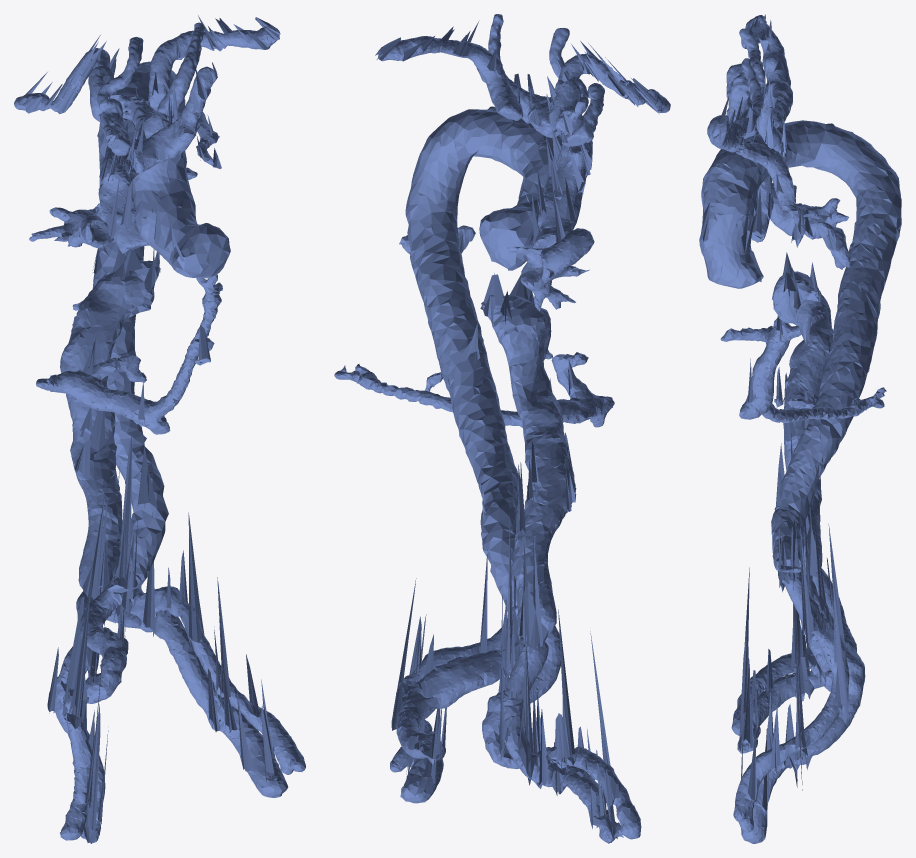
The model's file is vasos.glb.
The picture shows the model from 3 angles, left to right: view 1: azimuth 30°, elevation 25°; view 2: azimuth 150°, elevation 25°; view 3: azimuth 270°, elevation 25°; orthographic projection. The views are drawn at different scales.
Visible parts, largest first — view 1: aorta, inferior_vena_cava, iliac_artery_right, iliac_vena_left, portal_vein_and_splenic_vein, iliac_artery_left, iliac_vena_right, subclavian_artery_left, brachiocephalic_vein_left, superior_vena_cava, subclavian_artery_right, pulmonary_vein (+4 smaller); view 2: aorta, inferior_vena_cava, iliac_vena_left, iliac_artery_right, iliac_vena_right, portal_vein_and_splenic_vein, superior_vena_cava, subclavian_artery_right, pulmonary_vein, subclavian_artery_left, iliac_artery_left, brachiocephalic_vein_right (+3 smaller); view 3: aorta, inferior_vena_cava, iliac_artery_left, iliac_vena_left, portal_vein_and_splenic_vein, pulmonary_vein, iliac_vena_right, iliac_artery_right, subclavian_artery_left, subclavian_artery_right, brachiocephalic_vein_left, superior_vena_cava (+3 smaller).
Boxes of the visible parts, <box> form: aorta: <box>92,61,230,592</box>; inferior_vena_cava: <box>60,249,160,602</box>; iliac_artery_right: <box>60,433,137,840</box>; iliac_vena_left: <box>104,463,288,797</box>; portal_vein_and_splenic_vein: <box>36,274,222,434</box>; iliac_artery_left: <box>130,512,305,774</box>; iliac_vena_right: <box>47,590,108,843</box>; subclavian_artery_left: <box>148,15,280,110</box>; brachiocephalic_vein_left: <box>128,62,217,173</box>; superior_vena_cava: <box>98,123,152,253</box>; subclavian_artery_right: <box>14,35,127,122</box>; pulmonary_vein: <box>29,110,221,248</box>; aorta: <box>405,109,562,619</box>; inferior_vena_cava: <box>480,273,576,660</box>; iliac_vena_left: <box>396,512,524,803</box>; iliac_artery_right: <box>482,464,641,839</box>; iliac_vena_right: <box>500,594,623,843</box>; portal_vein_and_splenic_vein: <box>334,352,614,427</box>; superior_vena_cava: <box>531,129,592,248</box>; subclavian_artery_right: <box>546,41,670,135</box>; pulmonary_vein: <box>399,106,594,311</box>; subclavian_artery_left: <box>375,20,522,120</box>; iliac_artery_left: <box>390,549,522,772</box>; brachiocephalic_vein_right: <box>561,83,604,146</box>; aorta: <box>699,120,901,572</box>; inferior_vena_cava: <box>772,252,833,580</box>; iliac_artery_left: <box>733,525,849,832</box>; iliac_vena_left: <box>741,465,865,843</box>; portal_vein_and_splenic_vein: <box>720,316,886,422</box>; pulmonary_vein: <box>735,134,851,269</box>; iliac_vena_right: <box>737,524,856,753</box>; iliac_artery_right: <box>731,432,832,735</box>; subclavian_artery_left: <box>756,67,792,157</box>; subclavian_artery_right: <box>741,14,790,99</box>; brachiocephalic_vein_left: <box>707,96,758,152</box>; superior_vena_cava: <box>751,175,773,242</box>.
Size of the model in its own units: 0.2159 by 0.5806 by 0.1424.
